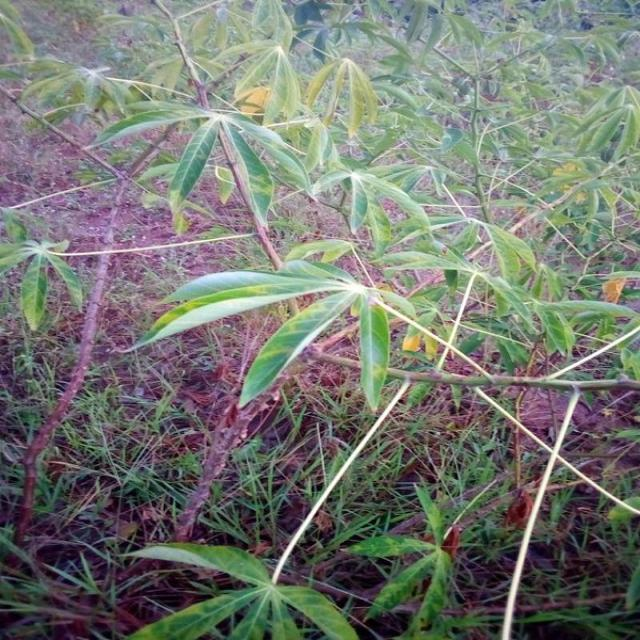cassava leaf: (358, 296, 389, 412)
